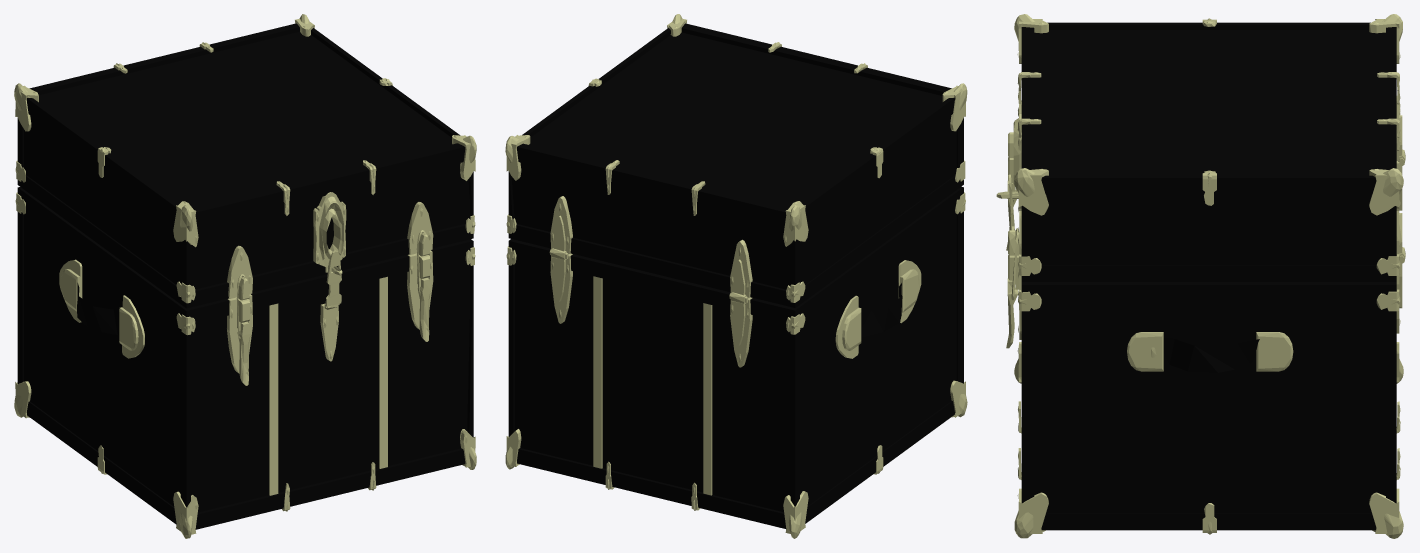
Rendered from sh-kl-trunk-large.glb.
3 views of the same model, side by side, from view 1: azimuth 30°, elevation 25°; view 2: azimuth 150°, elevation 25°; view 3: azimuth 270°, elevation 25° (orthographic). The views are drawn at different scales.
Parts seen in each view (by area): view 1: Trunk_LG_sides, Trunk_LG_edges, Trunk_LG_hdware_Trunk_LG_hdware_Trunk_metal; view 2: Trunk_LG_sides, Trunk_LG_edges, Trunk_LG_hdware_Trunk_LG_hdware_Trunk_metal; view 3: Trunk_LG_sides, Trunk_LG_edges, Trunk_LG_hdware_Trunk_LG_hdware_Trunk_metal.
Boxes of the visible parts, x1,y1,x2,y2 form: Trunk_LG_sides: (24,31,469,512); Trunk_LG_edges: (17,23,473,529); Trunk_LG_hdware_Trunk_LG_hdware_Trunk_metal: (14,14,476,538); Trunk_LG_sides: (511,32,956,512); Trunk_LG_edges: (508,23,963,528); Trunk_LG_hdware_Trunk_LG_hdware_Trunk_metal: (505,14,967,538); Trunk_LG_sides: (1034,30,1385,513); Trunk_LG_edges: (1021,22,1396,530); Trunk_LG_hdware_Trunk_LG_hdware_Trunk_metal: (996,14,1405,538).
Bounding box in the file's own units: 0.9978 × 1 × 0.9996.
